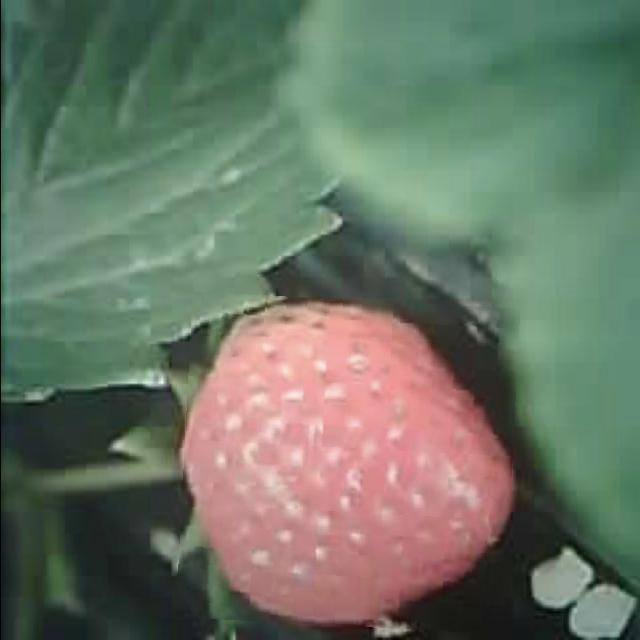strawberry: (179, 296, 515, 630)
